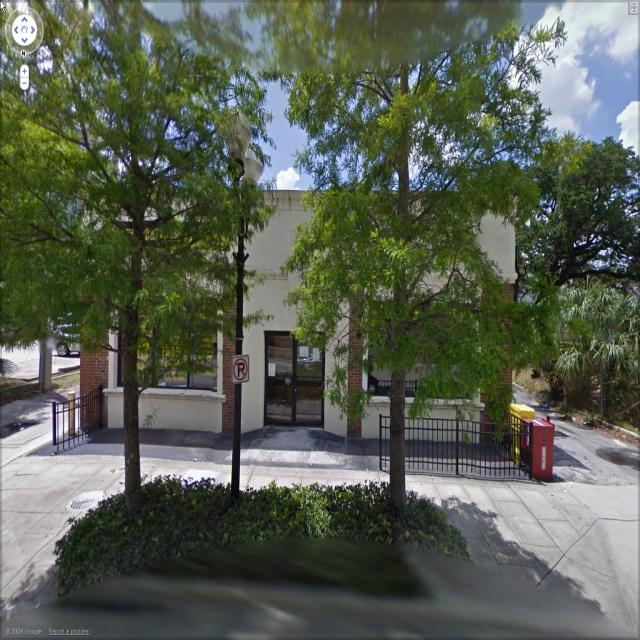b_2: (82, 184, 510, 469), (1, 1, 108, 346)
